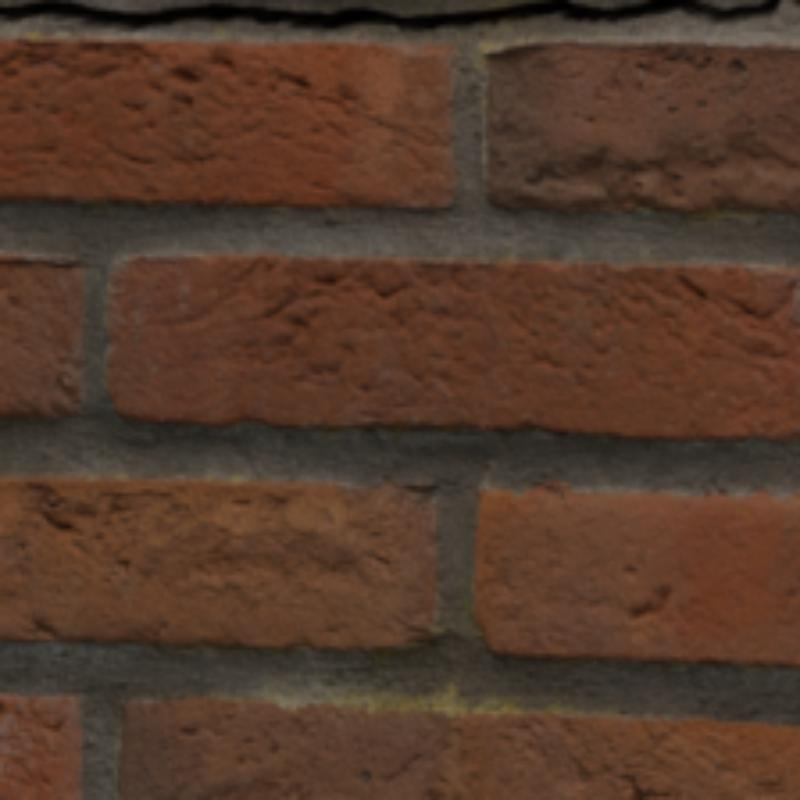pothole: (0, 0, 779, 25)
